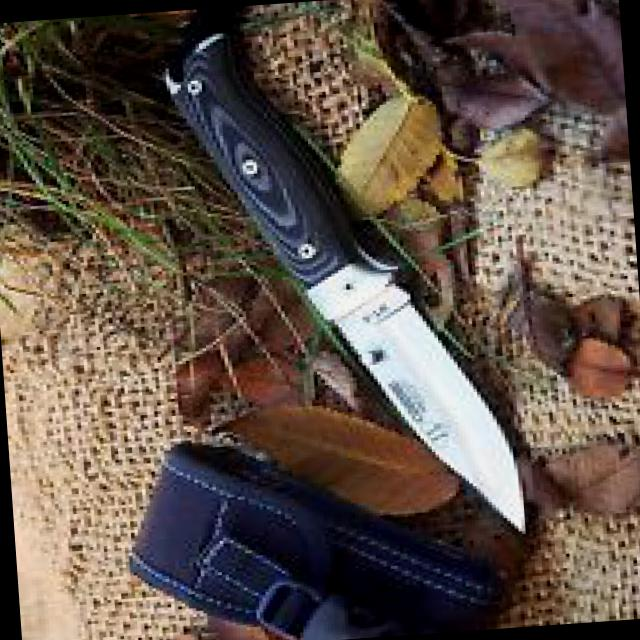knife: (286, 228, 530, 559)
